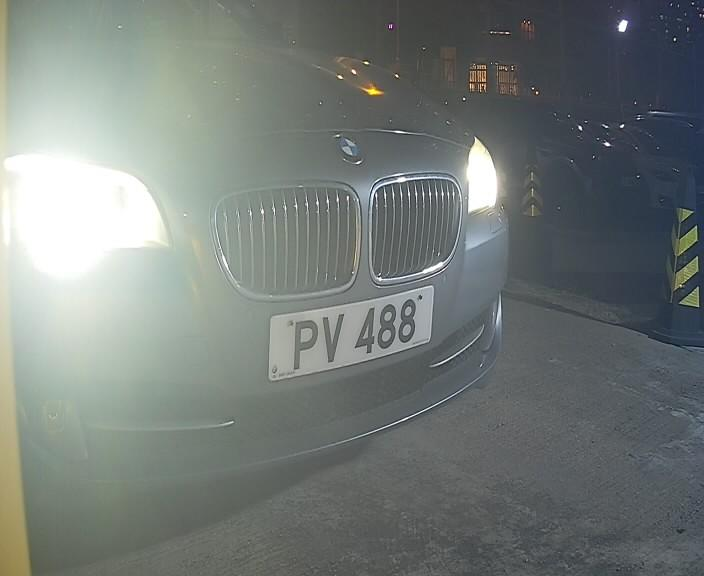License Plate: (247, 261, 449, 402)
